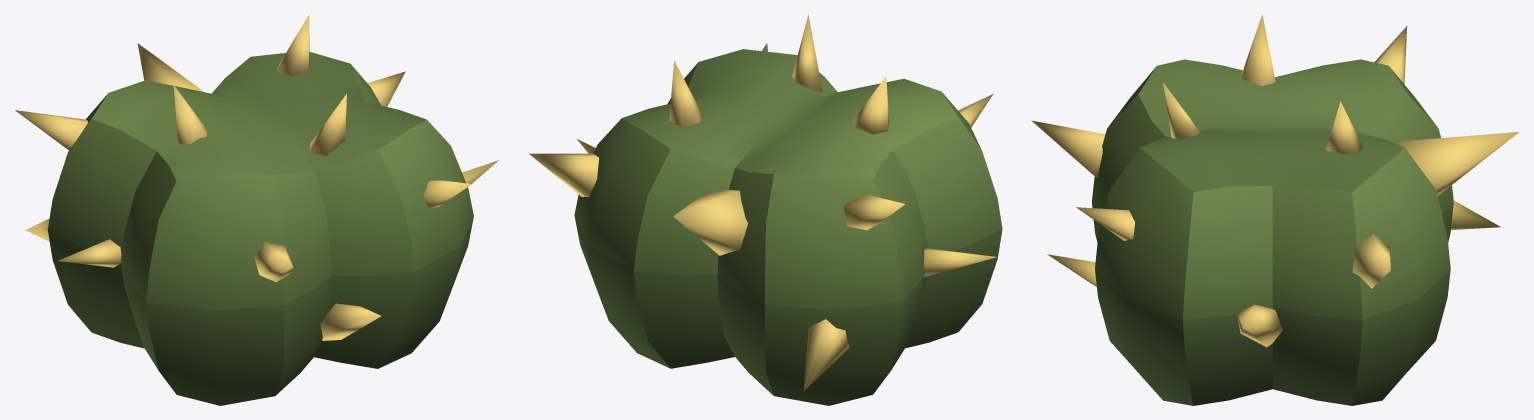
The model's file is cactos_pequeno.fbx.
3 views of the same model, side by side, from view 1: azimuth 30°, elevation 25°; view 2: azimuth 150°, elevation 25°; view 3: azimuth 270°, elevation 25° (orthographic). The views are drawn at different scales.
Parts seen in each view (by area): view 1: Cube.002, espinhos.003; view 2: Cube.002, espinhos.003; view 3: Cube.002, espinhos.003.
Part boxes in pixels (x1,y1,x2,y2): Cube.002: (47, 52, 473, 405); espinhos.003: (15, 14, 498, 340); Cube.002: (574, 49, 1002, 405); espinhos.003: (529, 14, 996, 390); Cube.002: (1092, 59, 1453, 405); espinhos.003: (1031, 14, 1518, 347).
Size of the model in its own units: 323 by 206 by 306.
2 materials, 1 textured.
